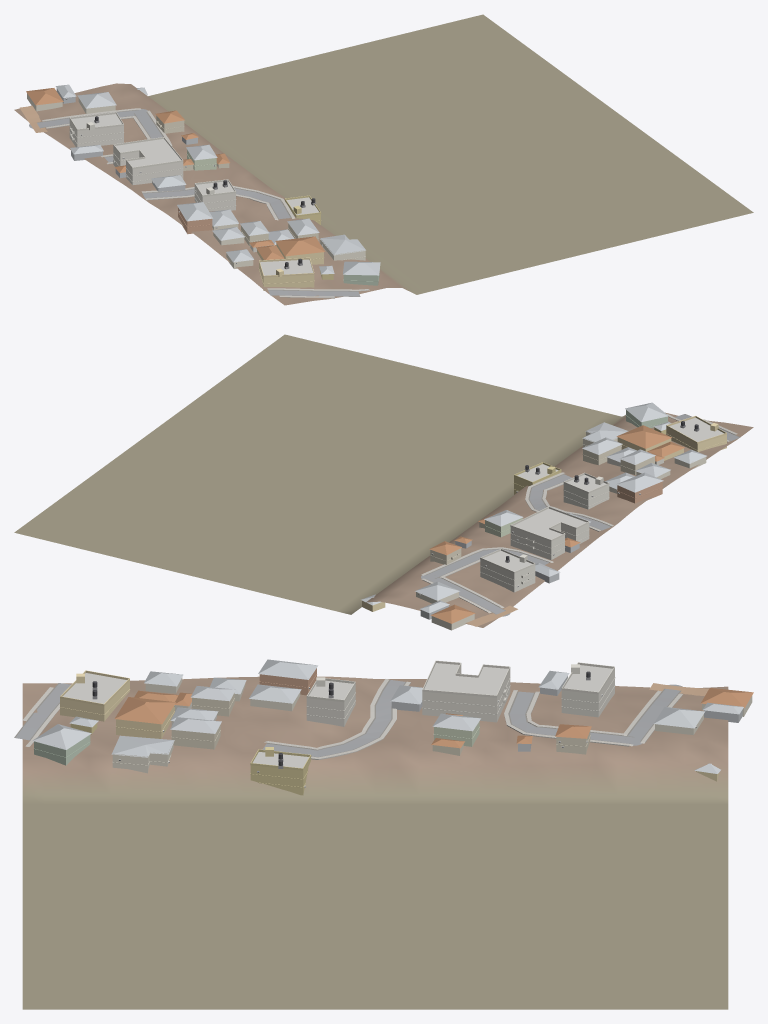
3 views of the same model, one above another, from view 1: azimuth 30°, elevation 25°; view 2: azimuth 150°, elevation 25°; view 3: azimuth 270°, elevation 25° (orthographic). The views are drawn at different scales.
Parts seen in each view (by area): view 1: Terrain-col, Buildings-col, Details, Roads-col, Sidewalks-col; view 2: Terrain-col, Buildings-col, Details, Roads-col, Sidewalks-col; view 3: Terrain-col, Buildings-col, Roads-col, Details, Sidewalks-col.
Boxes of the visible parts, x1=… form: Terrain-col: x1=14, y1=14, x2=753, y2=305; Buildings-col: x1=26, y1=84, x2=380, y2=290; Details: x1=65, y1=98, x2=379, y2=284; Roads-col: x1=20, y1=106, x2=360, y2=296; Sidewalks-col: x1=42, y1=108, x2=369, y2=298; Terrain-col: x1=14, y1=334, x2=753, y2=627; Buildings-col: x1=361, y1=402, x2=726, y2=630; Details: x1=418, y1=415, x2=726, y2=595; Roads-col: x1=421, y1=414, x2=740, y2=626; Sidewalks-col: x1=421, y1=414, x2=737, y2=613; Terrain-col: x1=22, y1=676, x2=728, y2=1009; Buildings-col: x1=32, y1=659, x2=753, y2=795; Roads-col: x1=14, y1=679, x2=708, y2=757; Details: x1=33, y1=660, x2=696, y2=787; Sidewalks-col: x1=22, y1=679, x2=682, y2=759.
Bounding box in the file's own units: 261 × 24.17 × 268.
